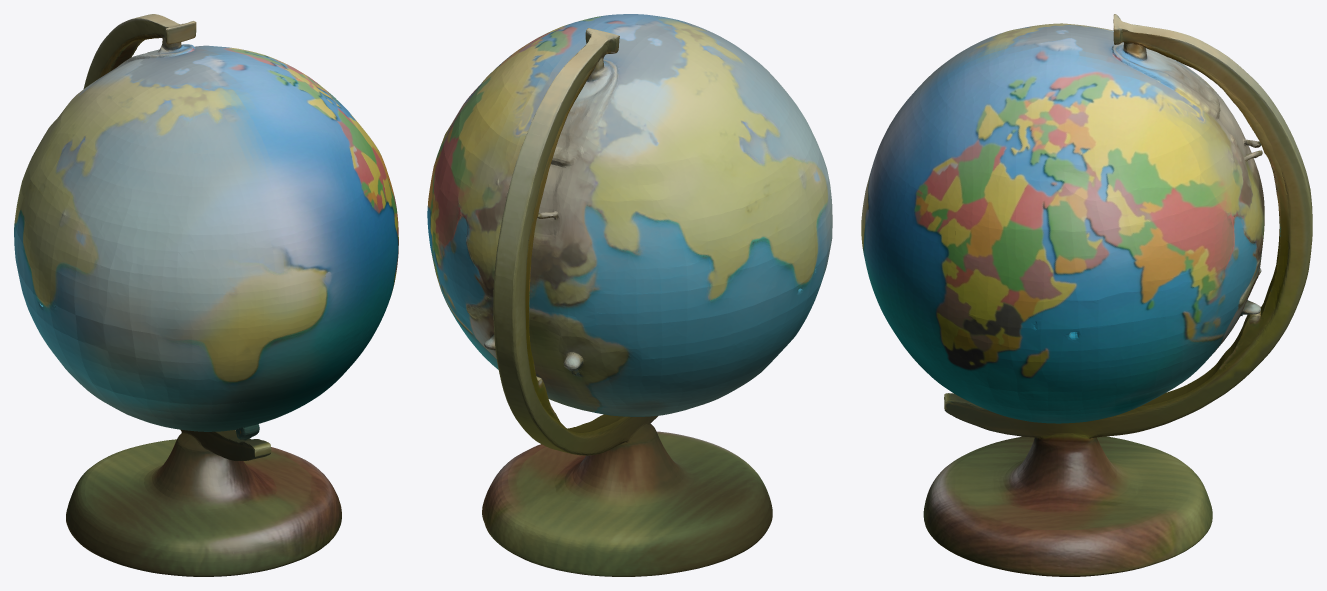
Rendered from globe.glb.
3 renders of one model, left to right at view 1: azimuth 30°, elevation 25°; view 2: azimuth 150°, elevation 25°; view 3: azimuth 270°, elevation 25°, orthographic. The views are drawn at different scales.
Parts seen in each view (by area): view 1: geometry_0; view 2: geometry_0; view 3: geometry_0.
Boxes of the visible parts, box(x1,y1,x2,y2) form: geometry_0: box(14, 14, 398, 576); geometry_0: box(427, 14, 832, 576); geometry_0: box(861, 14, 1312, 576).
Bounding box in the file's own units: 0.7281 × 0.9993 × 0.8218.
1 material, 1 textured.
